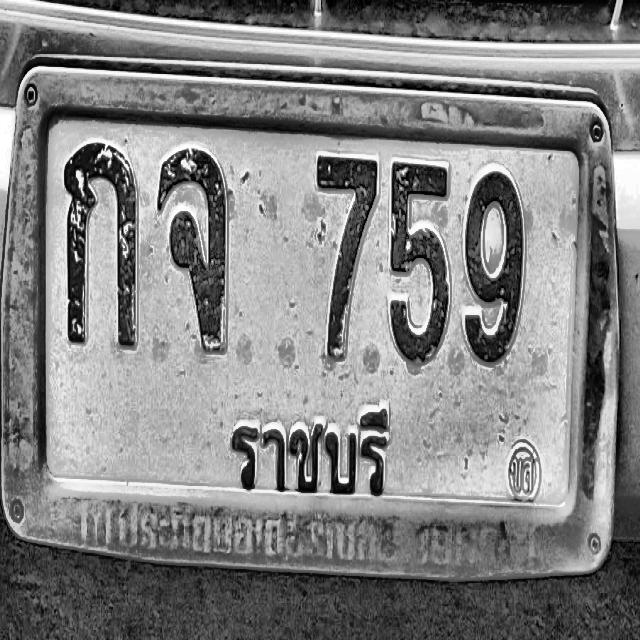license-plate: (0, 50, 624, 603)
